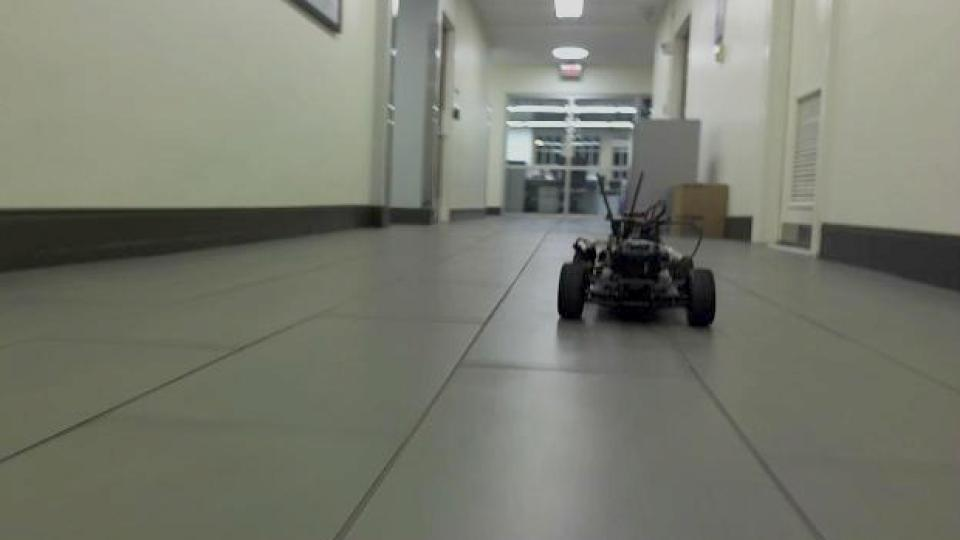car: (554, 168, 721, 330)
